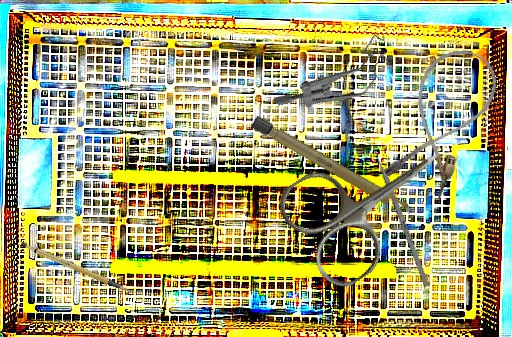Cannula: (377, 37, 507, 203)
Iris Scissors: (270, 108, 471, 296)
Pusher: (366, 134, 431, 288)
Scalpel Handle: (248, 114, 418, 220), (18, 227, 133, 311)
Speculum: (270, 5, 403, 145)
